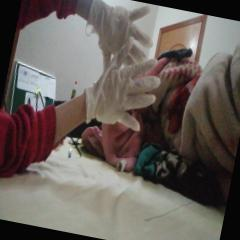gloved: (81, 27, 167, 132), (77, 0, 162, 82)
